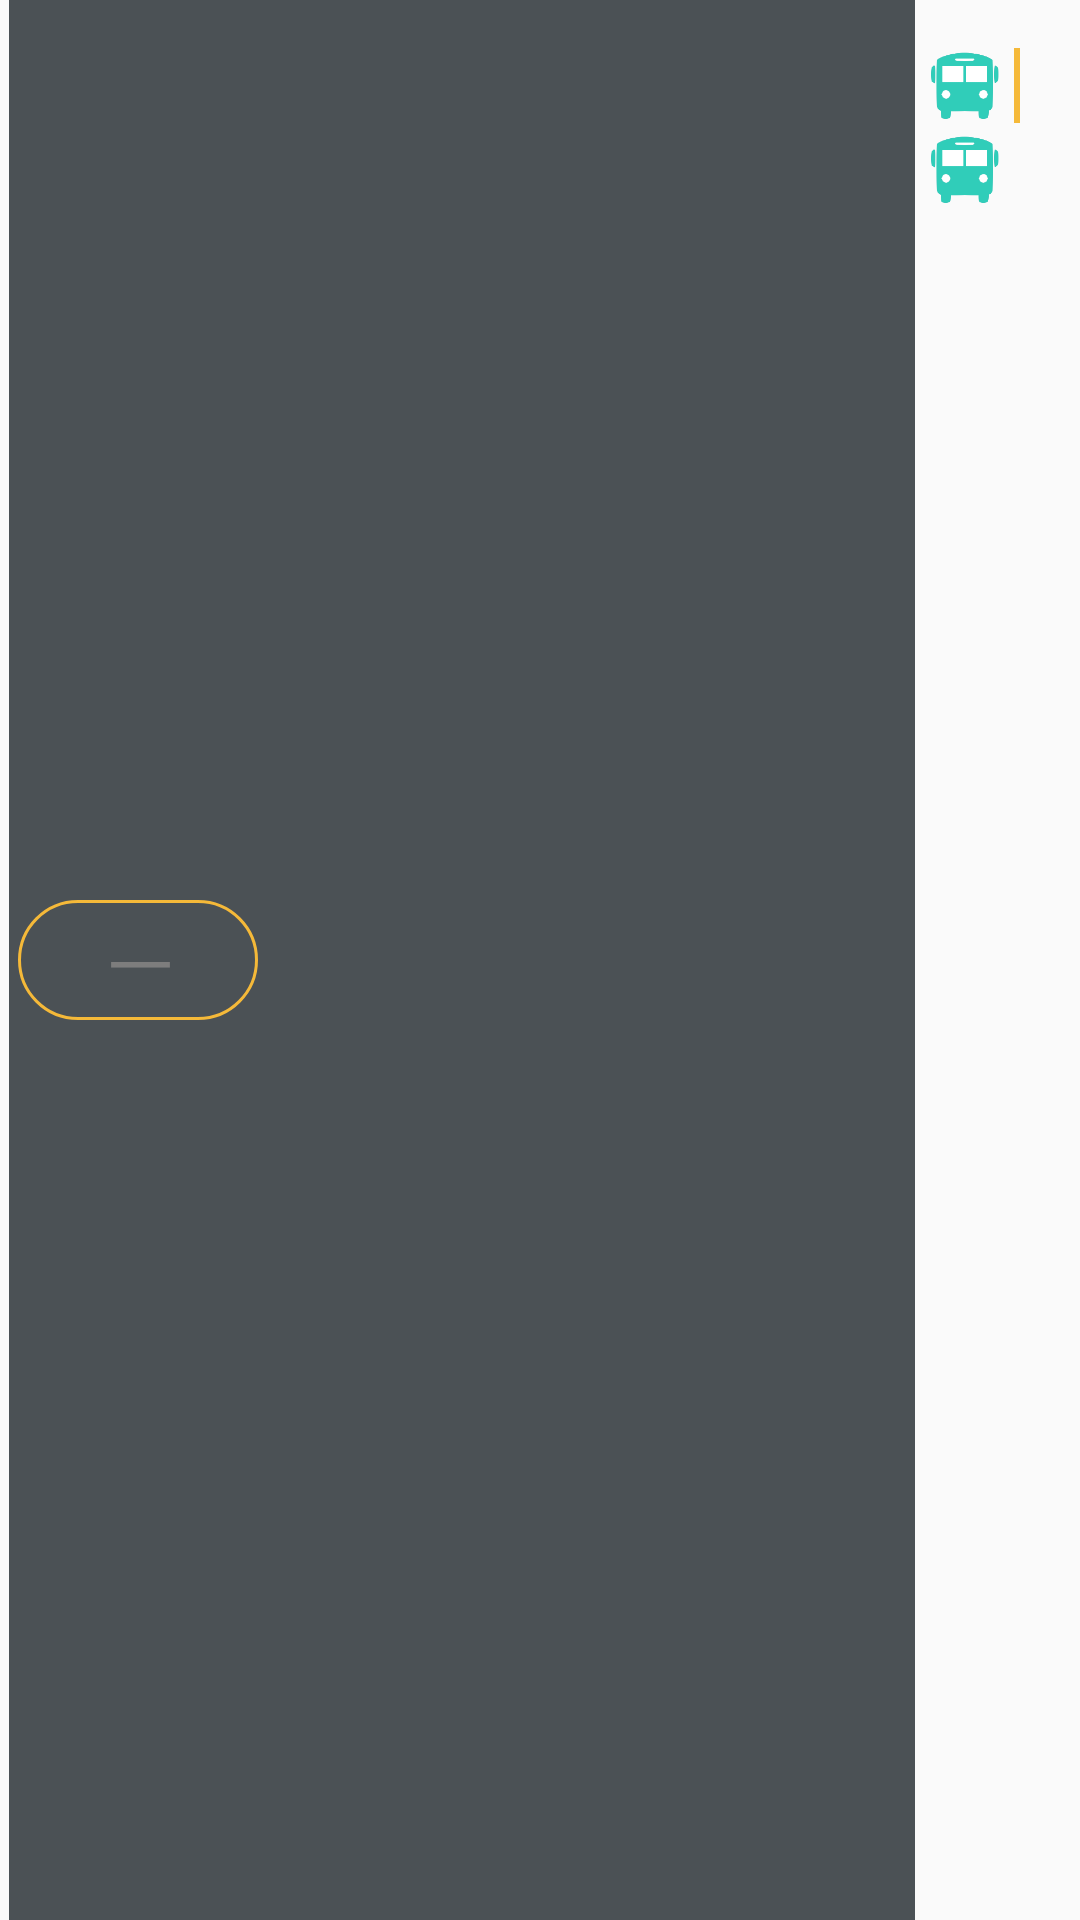

Icon click points for this 1080px×1920px phone screenshot, format point (x, y):
bus: point (965, 85), point (965, 169)
